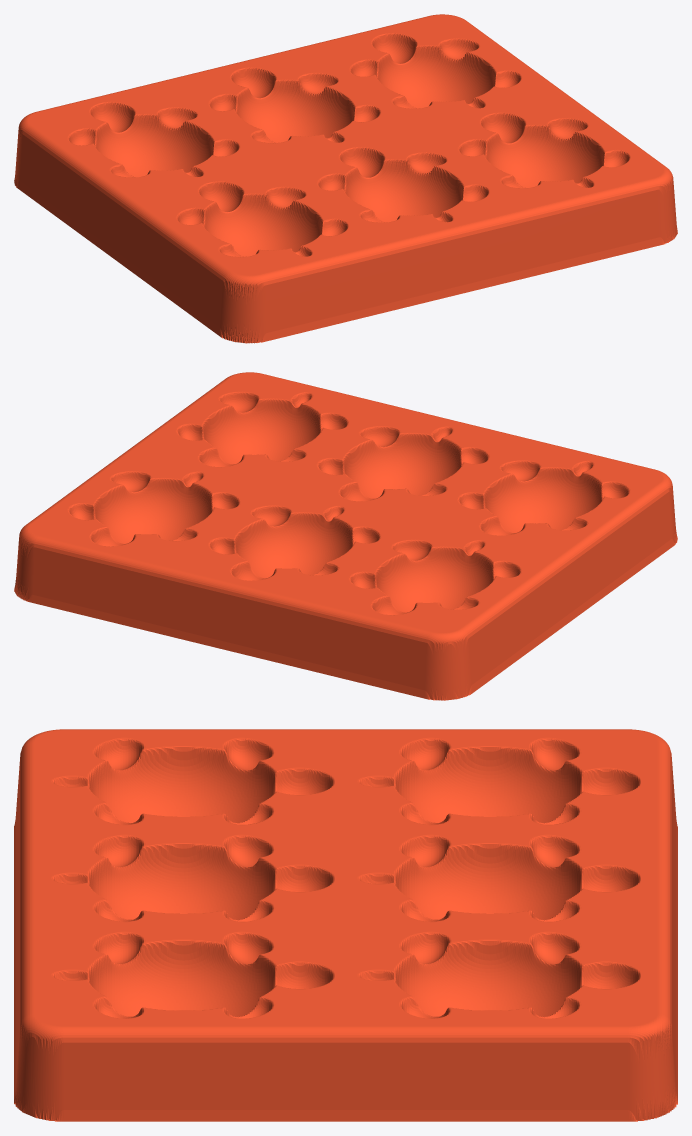
Rendered from mold.glb.
3 renders of one model, top to bottom at view 1: azimuth 30°, elevation 25°; view 2: azimuth 150°, elevation 25°; view 3: azimuth 270°, elevation 25°, orthographic. The views are drawn at different scales.
Parts seen in each view (by area): view 1: geometry_0; view 2: geometry_0; view 3: geometry_0.
Part boxes in pixels (bbox=[...]): geometry_0: bbox=[14, 14, 677, 343]; geometry_0: bbox=[14, 372, 677, 700]; geometry_0: bbox=[14, 729, 677, 1121].
Bounding box in the file's own units: 0.1349 × 0.0175 × 0.1211.
